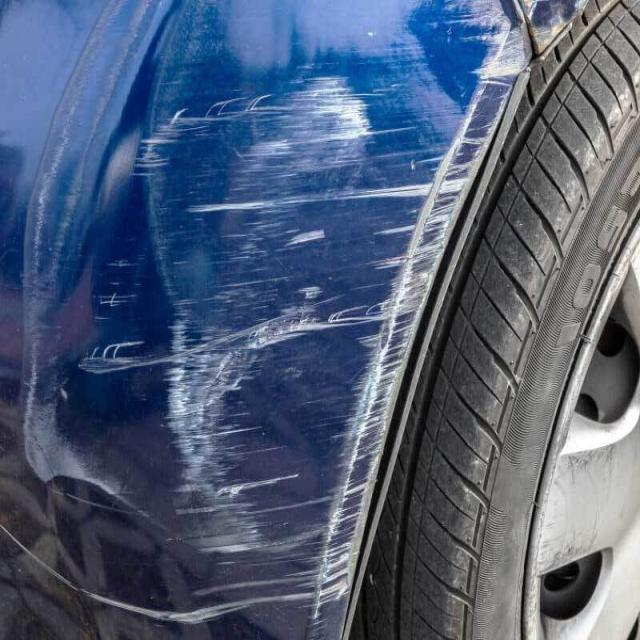scratch: (0, 0, 550, 640)
